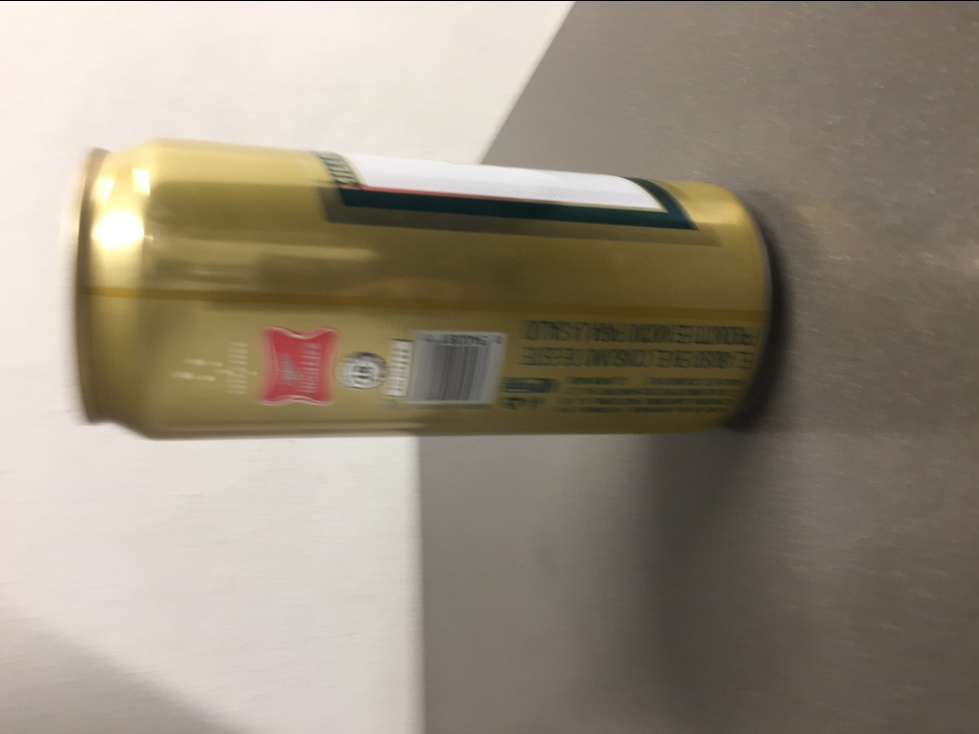miller: (62, 134, 784, 446)
